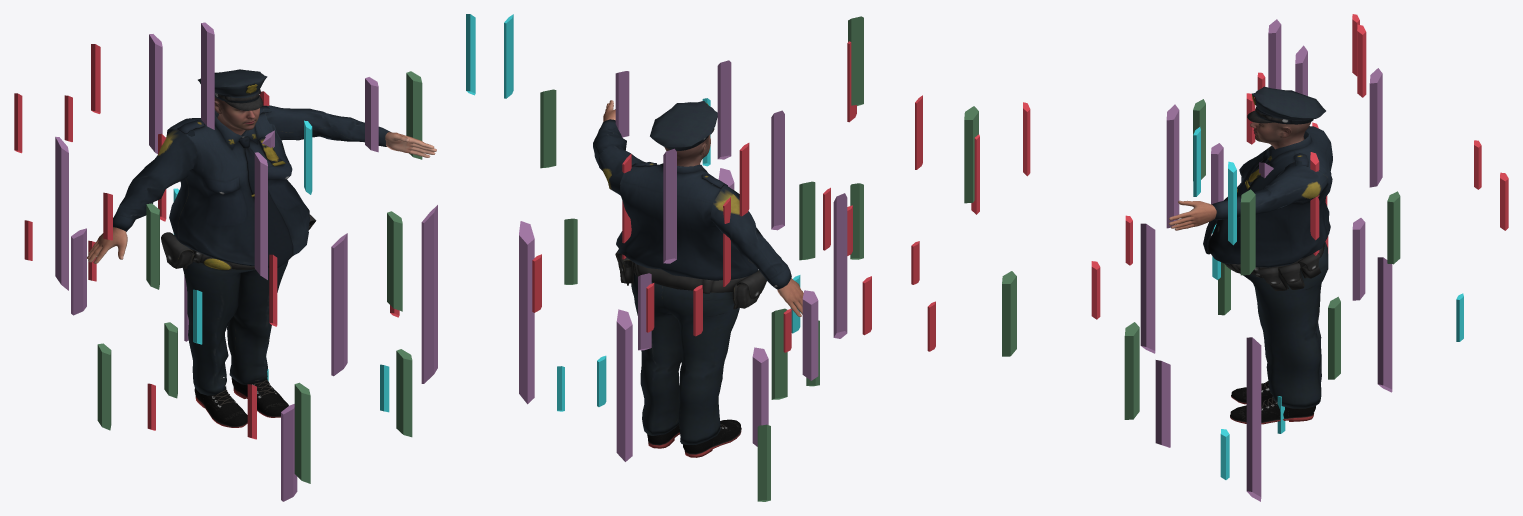
Rendered from JefeGorgoryGlitch5.obj.
3 views of the same model, side by side, from view 1: azimuth 30°, elevation 25°; view 2: azimuth 150°, elevation 25°; view 3: azimuth 270°, elevation 25° (orthographic). The views are drawn at different scales.
Visible parts, largest first — view 1: dikkewout_002, Gl1, Gl004, Cylinder_006, Object005, Cylinder_007, Gl003, Gl2, Object004, Cylinder_000, Object003, Cylinder_008; view 2: dikkewout_002, Gl004, Gl1, Cylinder_006, Object005, Gl2, Gl003, Cylinder_007, Cylinder_000, Object003, Object004, Cylinder_008; view 3: dikkewout_002, Gl1, Gl004, Cylinder_006, Gl2, Cylinder_007, Object004, Gl003, Object003, Cylinder_000, Cylinder_008.
Boxes of the visible parts, bbox=[...] form: dikkewout_002: bbox=[161, 69, 316, 427]; Gl1: bbox=[71, 130, 437, 501]; Gl004: bbox=[55, 22, 378, 290]; Cylinder_006: bbox=[294, 71, 422, 483]; Object005: bbox=[87, 129, 196, 263]; Cylinder_007: bbox=[97, 203, 177, 430]; Gl003: bbox=[14, 93, 277, 430]; Gl2: bbox=[91, 44, 399, 439]; Object004: bbox=[322, 114, 436, 157]; Cylinder_000: bbox=[193, 14, 475, 412]; Object003: bbox=[263, 105, 332, 140]; Cylinder_008: bbox=[173, 120, 312, 380]; dikkewout_002: bbox=[615, 101, 766, 457]; Gl004: bbox=[615, 60, 847, 350]; Gl1: bbox=[519, 168, 818, 461]; Cylinder_006: bbox=[540, 16, 863, 399]; Object005: bbox=[710, 184, 803, 316]; Gl2: bbox=[532, 41, 871, 336]; Gl003: bbox=[646, 95, 935, 352]; Cylinder_007: bbox=[564, 183, 863, 501]; Cylinder_000: bbox=[504, 14, 800, 406]; Object003: bbox=[598, 144, 645, 195]; Object004: bbox=[593, 100, 626, 165]; Cylinder_008: bbox=[557, 98, 710, 411]; dikkewout_002: bbox=[1203, 86, 1332, 424]; Gl1: bbox=[1140, 162, 1392, 501]; Gl004: bbox=[1166, 19, 1382, 300]; Cylinder_006: bbox=[964, 106, 1255, 419]; Gl2: bbox=[971, 24, 1508, 319]; Cylinder_007: bbox=[1193, 99, 1400, 379]; Object004: bbox=[1168, 185, 1289, 230]; Gl003: bbox=[1023, 14, 1481, 265]; Object003: bbox=[1262, 160, 1327, 209]; Cylinder_000: bbox=[1212, 161, 1236, 479]; Cylinder_008: bbox=[1193, 127, 1463, 433].
Bounding box in the file's own units: 93.15 × 90.41 × 107.
